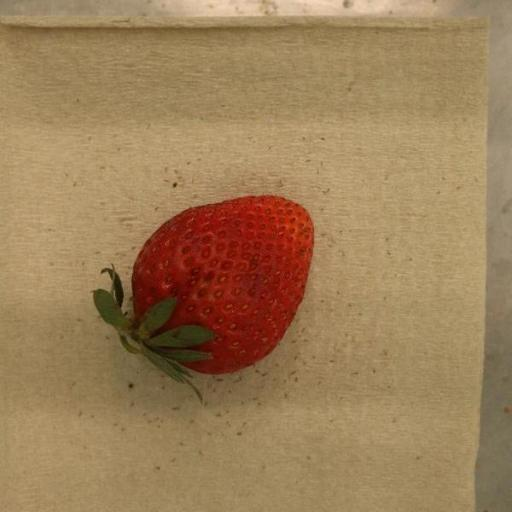Strawberry: (92, 196, 316, 384)
